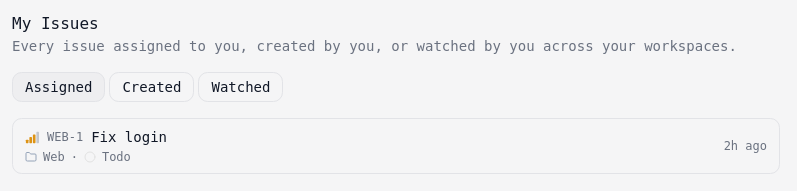
Scenario: my issues › each tab fetches its tab and renders project, status, priority, and time
The image size is (797, 191).
Check: the text "Fix login" is shown, box [91,127,167,147]
Check: the text "Web" is shown, box [43,149,65,165]
Click the tab "Created": coordinates (152, 87) [109,72,194,102]
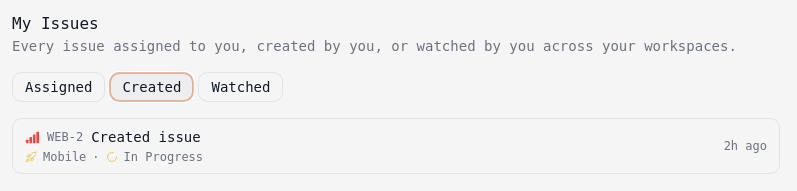
Check: the text "Created issue" is shown, box [91,127,201,147]
Check: the text "Mobile" is shown, box [43,149,86,165]
Check: the text "In Progress" is shown, box [124,149,203,165]
Click the tab "Watched": coordinates (241, 87) [198,72,284,102]
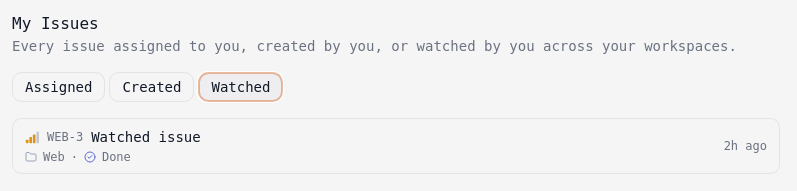
Check: the text "Watched issue" is shown, box [91,127,201,147]
Check: the text "Done" is shown, box [102,149,131,165]
